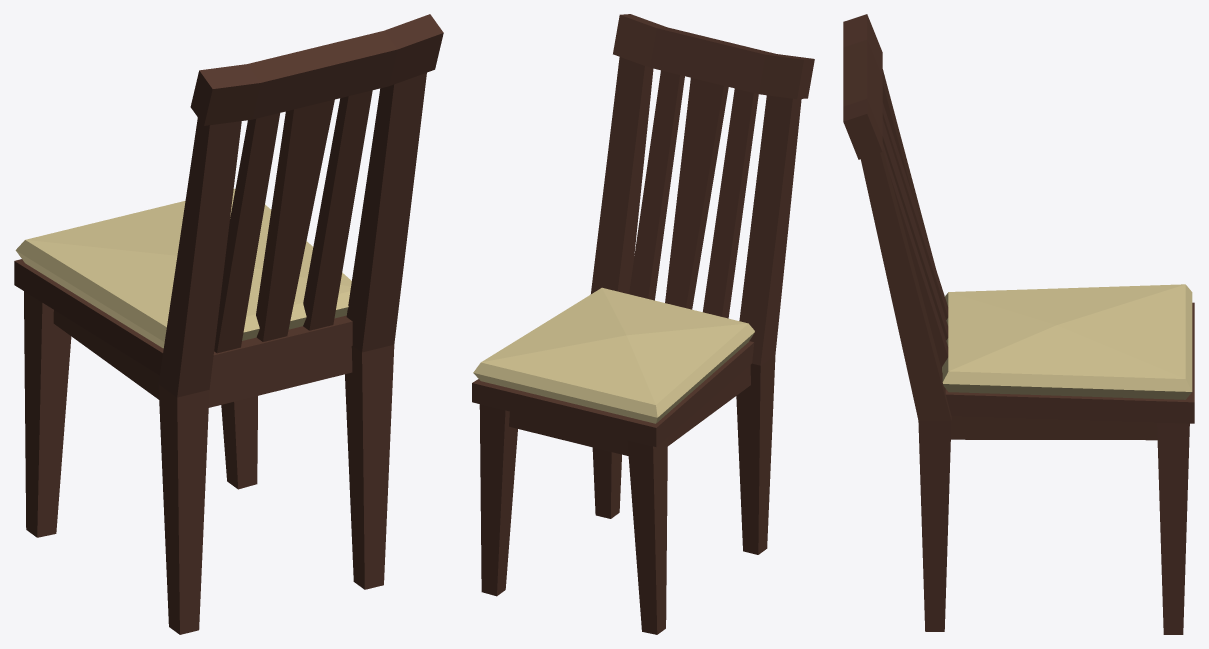
File: Chair_1B.fbx
3 views of the same model, side by side, from view 1: azimuth 30°, elevation 25°; view 2: azimuth 150°, elevation 25°; view 3: azimuth 270°, elevation 25° (orthographic). The views are drawn at different scales.
Parts seen in each view (by area): view 1: polySurface1737; view 2: polySurface1737; view 3: polySurface1737.
Boxes of the visible parts, x1,y1,x2,y2 form: polySurface1737: [14, 14, 443, 634]; polySurface1737: [472, 14, 814, 634]; polySurface1737: [843, 14, 1194, 634].
Bounding box in the file's own units: 0.5004 × 1.22 × 0.7442.
1 material, 1 textured.
